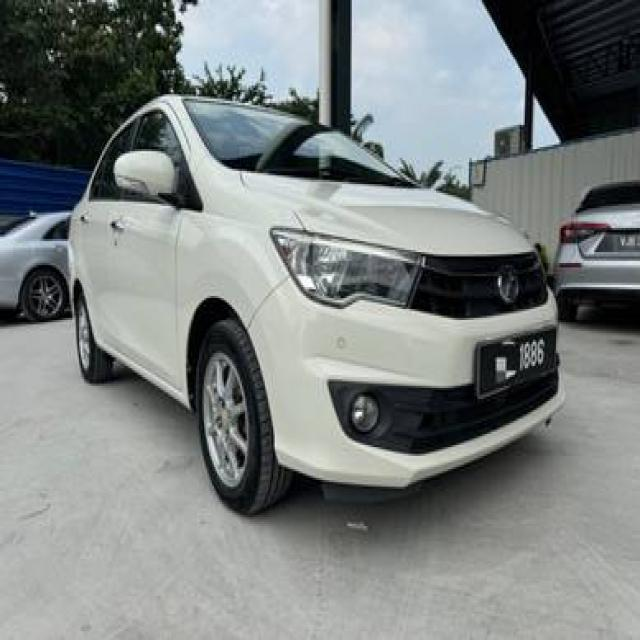PeroduaBezza: (65, 91, 566, 516)
